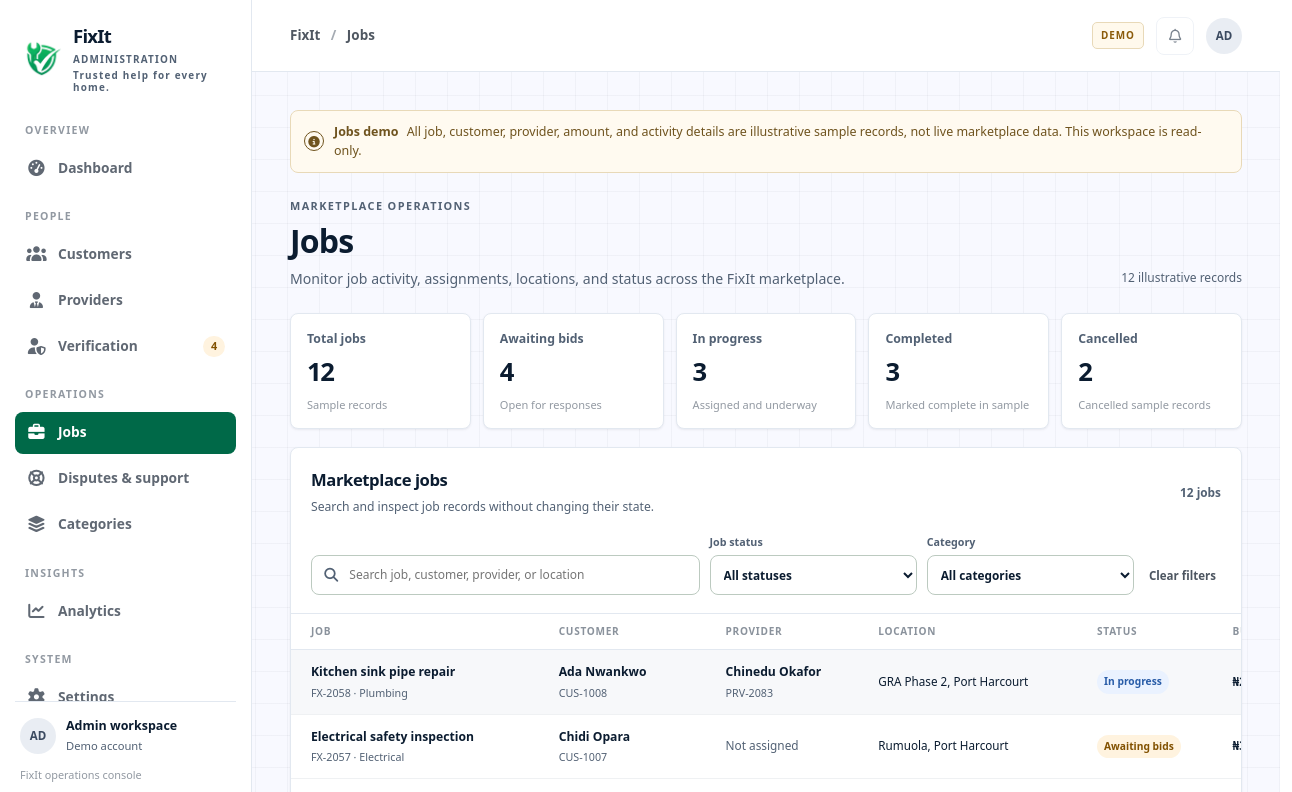
Test: admin jobs workspace › shows a useful empty state when no jobs match
Type "no such job exists" into the search field named "Search jobs".
click(517, 575); type("no such job exists")  # box [347, 565, 688, 585]
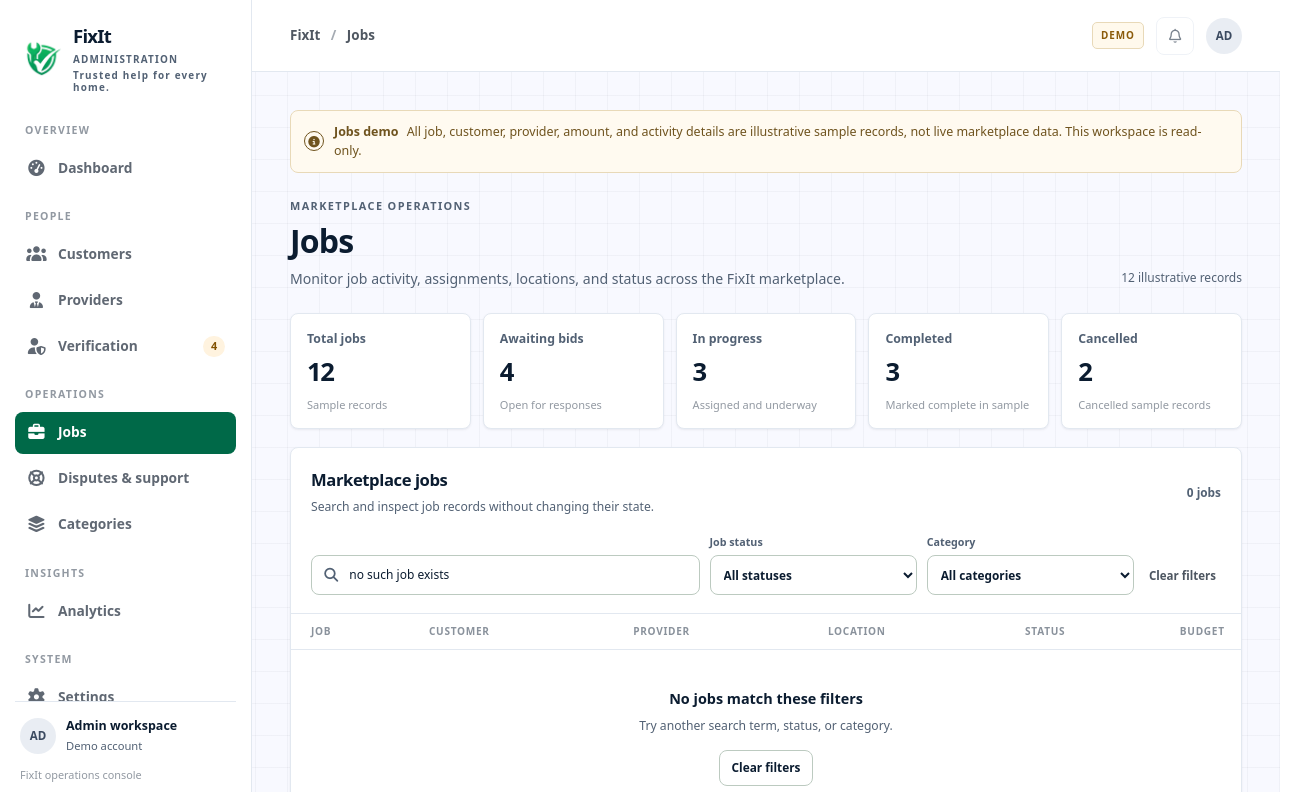
Result: the text "No jobs match these filters" is shown at [669, 688, 863, 710]
